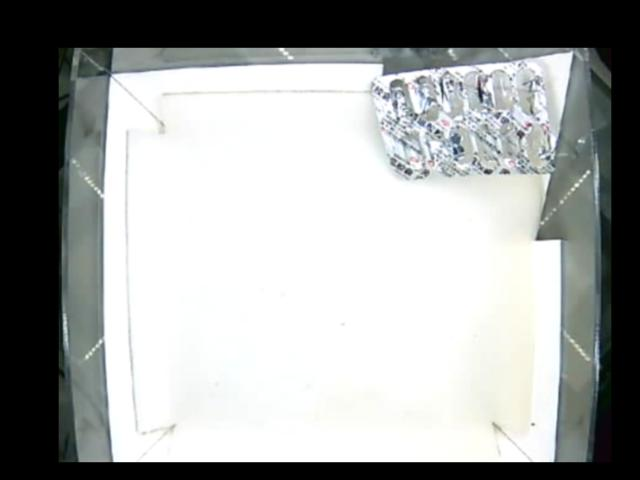Medicine: (370, 59, 556, 185)
